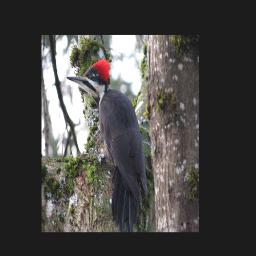Woodpecker: (65, 57, 151, 228)
